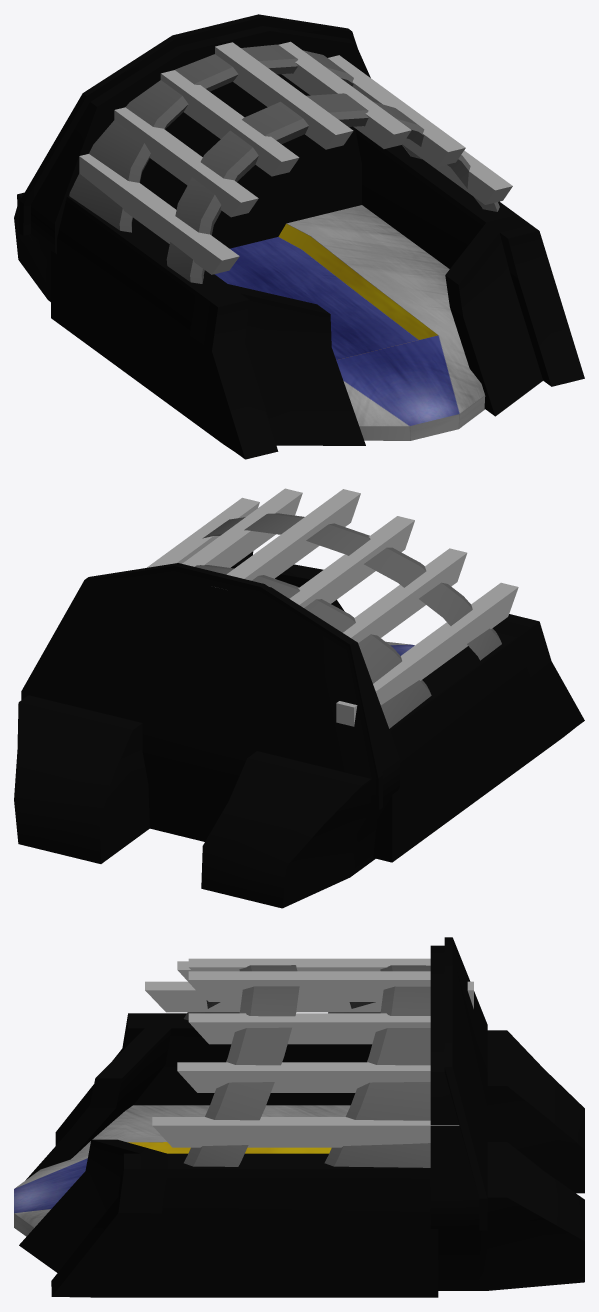
File: ConstructionYard3.fbx
3 renders of one model, top to bottom at view 1: azimuth 30°, elevation 25°; view 2: azimuth 150°, elevation 25°; view 3: azimuth 270°, elevation 25°, orthographic.
Visible parts, largest first — view 1: polySurface415, polySurface406, polySurface414, polySurface404, polySurface402; view 2: polySurface404, polySurface406, polySurface415, polySurface402; view 3: polySurface402, polySurface406, polySurface404, polySurface415, polySurface414.
Boxes of the visible parts, x1=… form: polySurface415: x1=51, y1=196, x2=365, y2=459; polySurface406: x1=69, y1=41, x2=512, y2=283; polySurface414: x1=215, y1=205, x2=485, y2=440; polySurface404: x1=14, y1=14, x2=370, y2=301; polySurface402: x1=355, y1=128, x2=584, y2=416; polySurface404: x1=14, y1=563, x2=399, y2=908; polySurface406: x1=146, y1=488, x2=518, y2=728; polySurface415: x1=373, y1=614, x2=584, y2=862; polySurface402: x1=231, y1=551, x2=344, y2=611; polySurface402: x1=19, y1=1139, x2=438, y2=1297; polySurface406: x1=145, y1=958, x2=473, y2=1167; polySurface404: x1=430, y1=937, x2=584, y2=1290; polySurface415: x1=25, y1=1013, x2=371, y2=1180; polySurface414: x1=14, y1=1105, x2=350, y2=1236.
Bounding box in the file's own units: 22.9 × 15.81 × 31.64.
